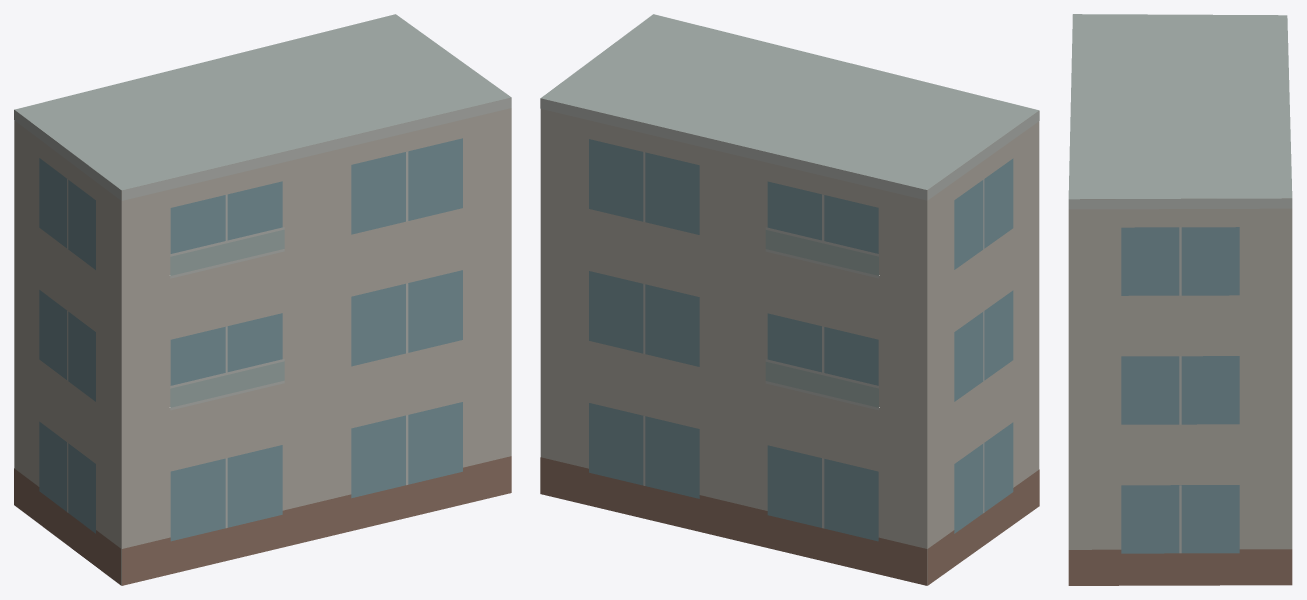
The model's file is survey-upis-32782443.glb.
The picture shows the model from 3 angles, left to right: view 1: azimuth 30°, elevation 25°; view 2: azimuth 150°, elevation 25°; view 3: azimuth 270°, elevation 25°; orthographic projection. The views are drawn at different scales.
Visible parts, largest first — view 1: survey-upis-32782443.tmp; view 2: survey-upis-32782443.tmp; view 3: survey-upis-32782443.tmp.
Part boxes in pixels (bbox=[...]): survey-upis-32782443.tmp: bbox=[14, 14, 511, 585]; survey-upis-32782443.tmp: bbox=[540, 14, 1039, 585]; survey-upis-32782443.tmp: bbox=[1068, 14, 1292, 585].
Bounding box in the file's own units: 9.4 × 9.15 × 4.81.
